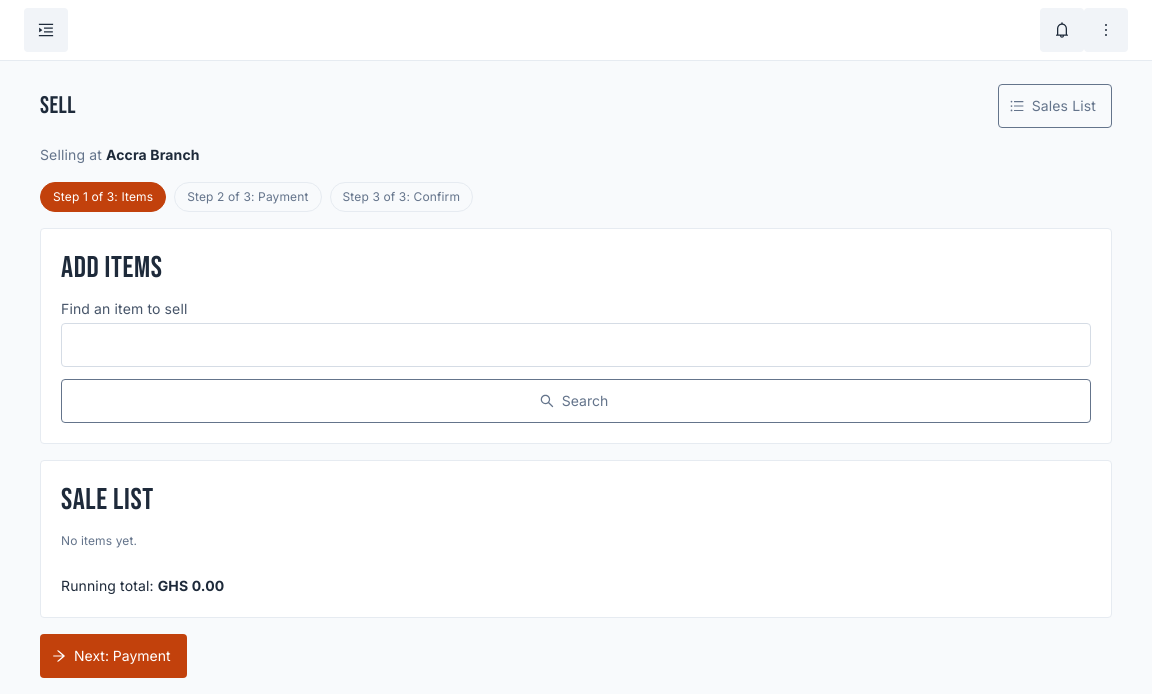
Test: FIX-43: an unpriced line is said so, and a 400 on a line returns to the items step › the running total says how many lines have no price; the server 400 shows on the line
The image size is (1152, 694).
Check: the heading "Sell" is shown, box [40, 90, 76, 122]
Step 1. Type "HP" into the field labelled "Find an item to sell" → (576, 345), box [61, 323, 1091, 367]
Step 2. Click the button "Search" → (576, 401), box [61, 379, 1091, 423]
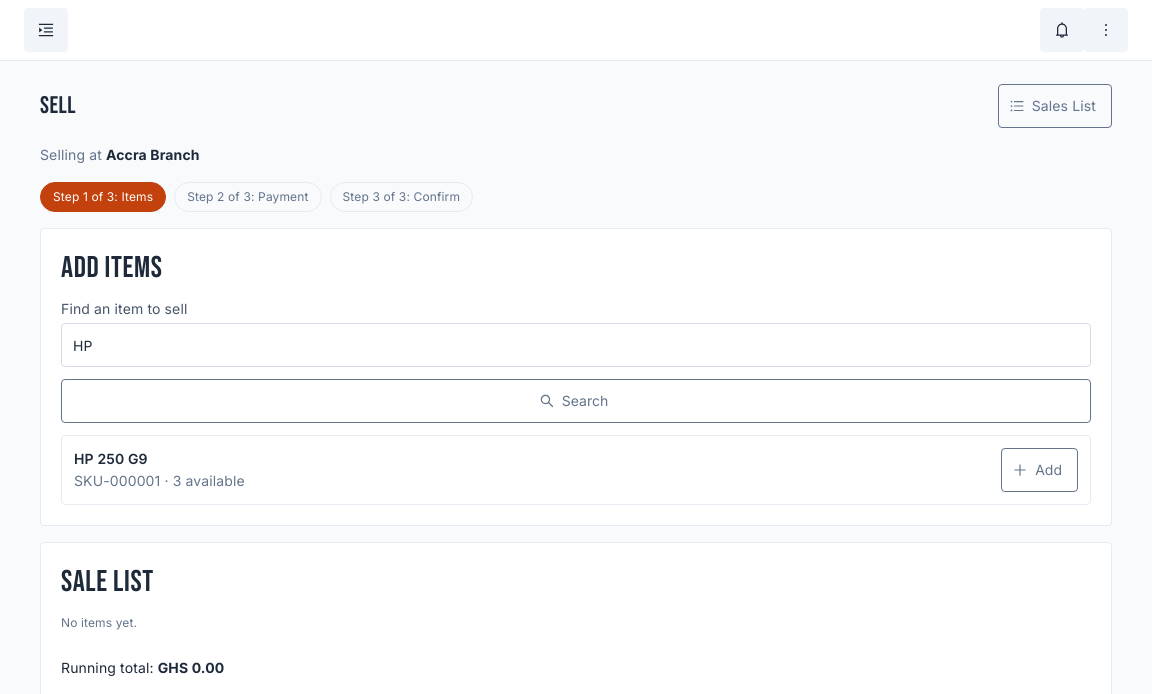
Step 3. Click the button with aria-label "Add HP 250 G9" → (1040, 470), box [1001, 448, 1078, 492]
(page scrolled)
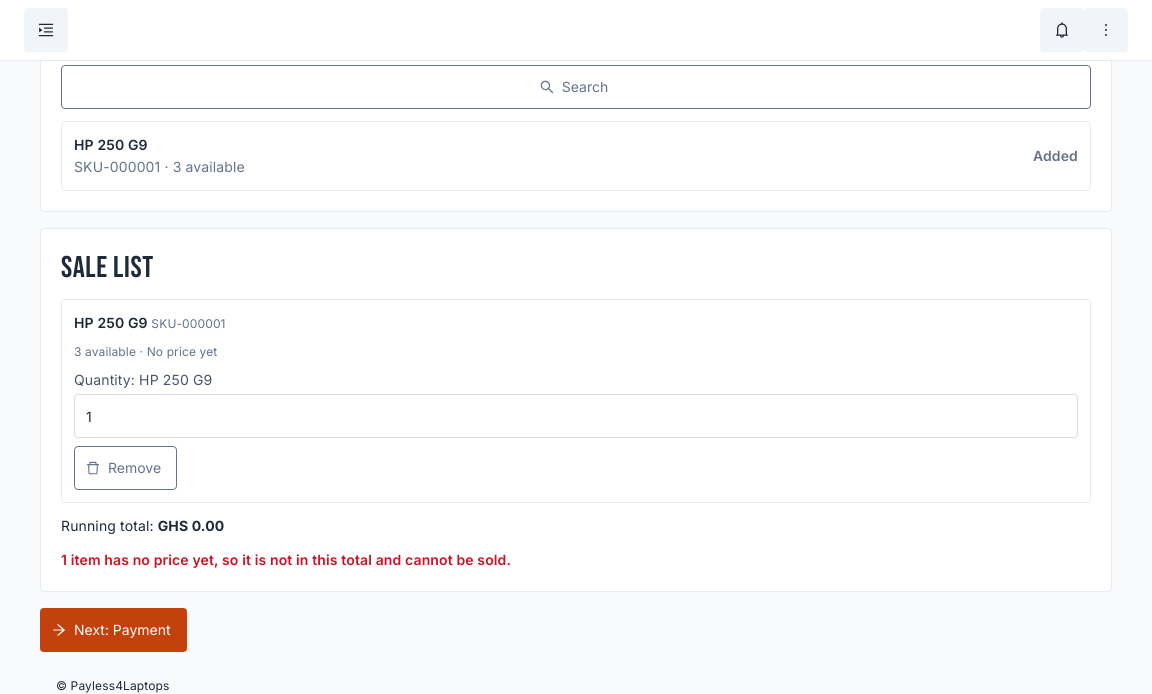
Check: the field labelled "Quantity: HP 250 G9" is shown, box [74, 394, 1078, 438]
Check: the text "1 item has no price yet" is shown, box [61, 551, 511, 568]
Step 4. Click the button "Next: payment" → (113, 630), box [40, 608, 187, 652]
(page scrolled)
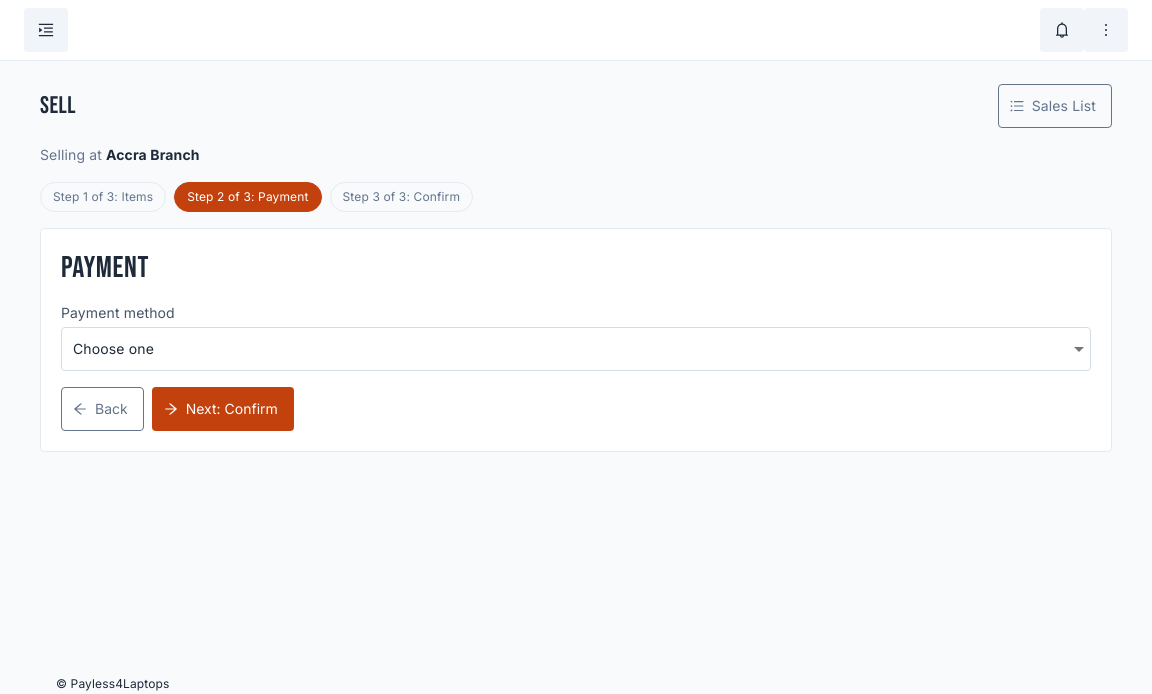
Check: the heading "Payment" is shown, box [61, 250, 149, 286]
Step 5. Select "Cash" in the dropdown labelled "Payment method" → (576, 349), box [61, 327, 1091, 371]
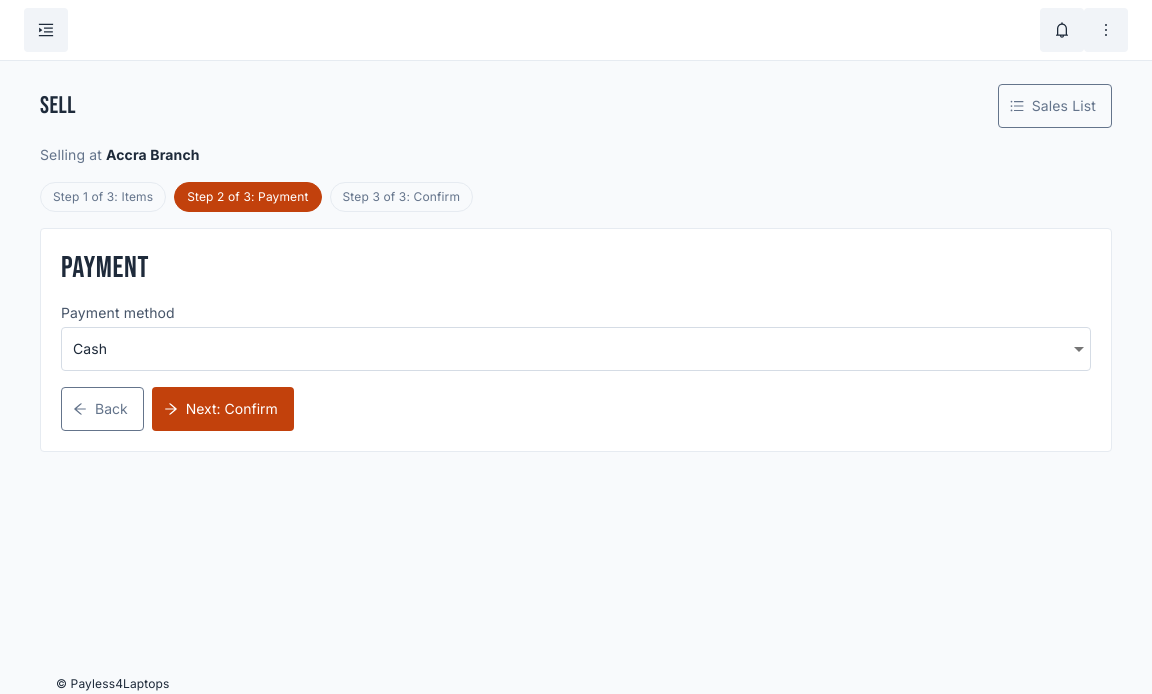
Step 6. Click the button "Next: confirm" → (223, 409), box [152, 387, 294, 431]
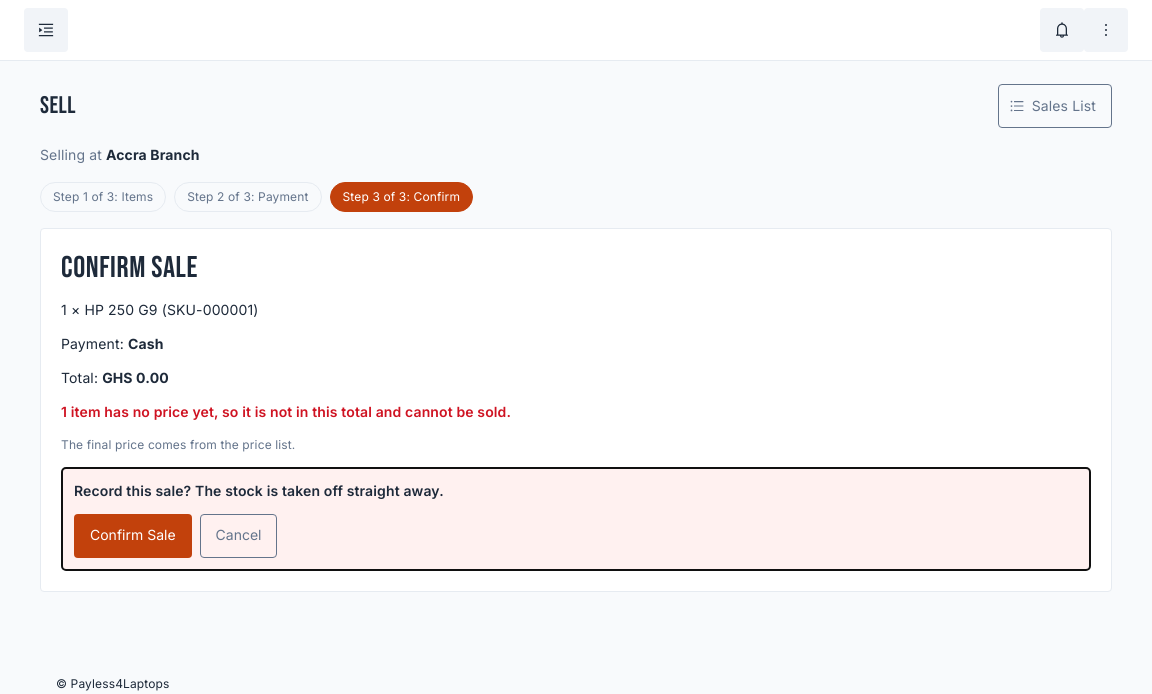
Check: the heading "Confirm sale" is shown, box [61, 250, 198, 286]
Step 7. Click the button "Confirm sale" → (133, 536), box [74, 514, 192, 558]
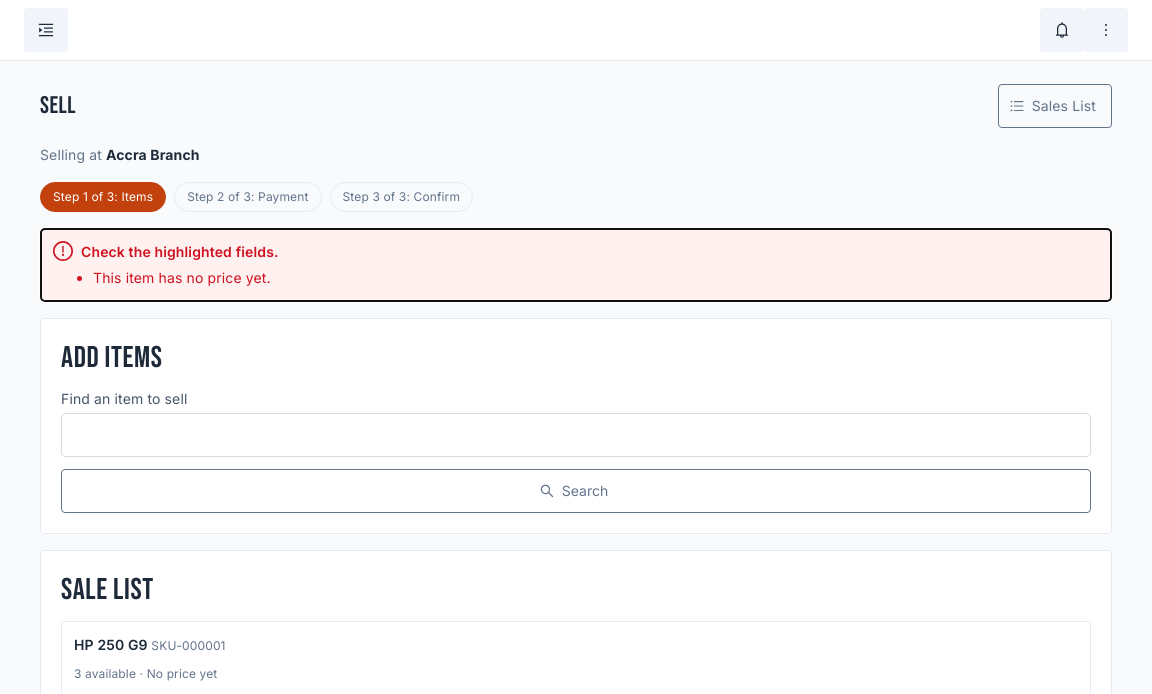
Check: the list item "This item has no price yet." is shown, box [93, 269, 271, 286]
